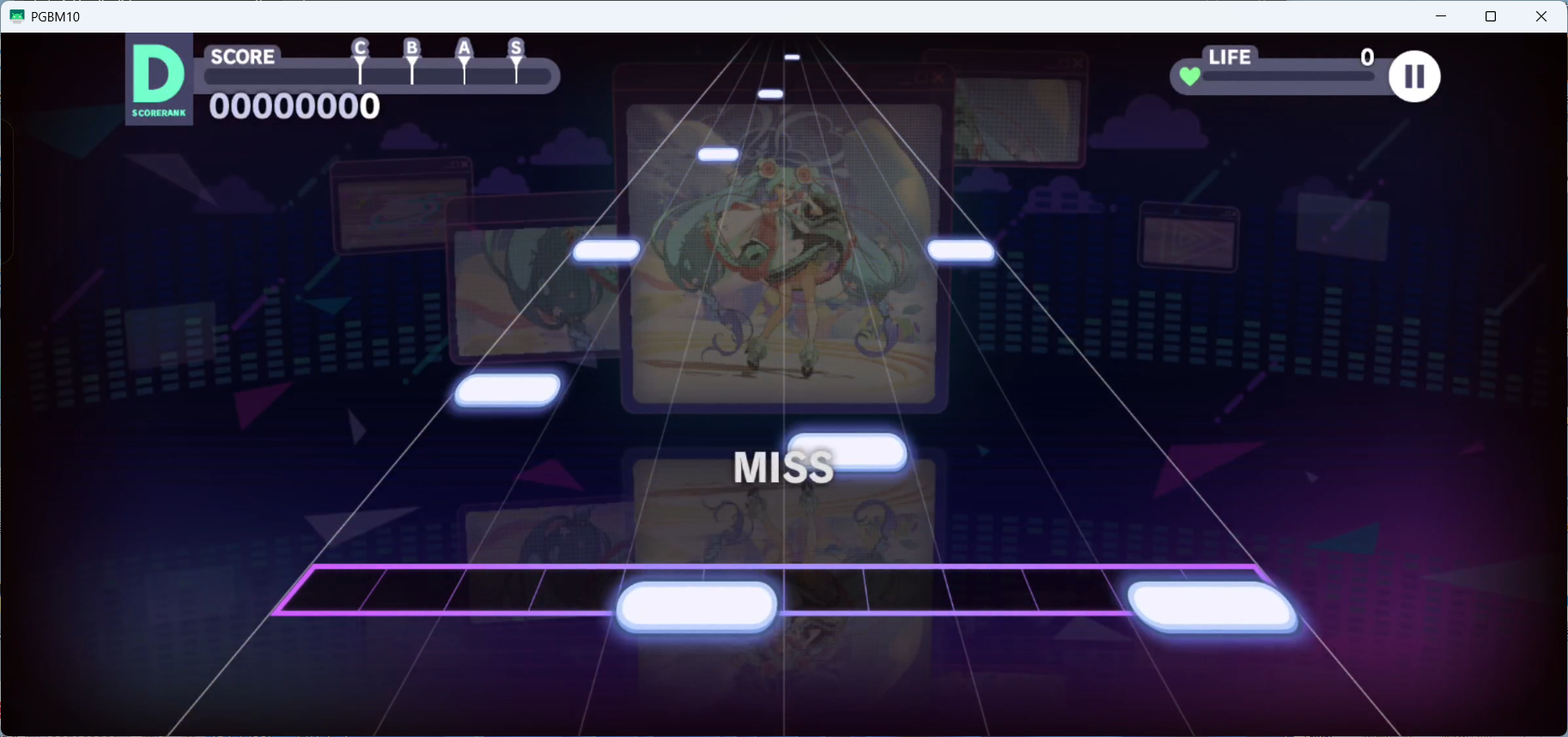tap: (615, 582, 779, 636), (1127, 582, 1298, 633), (787, 432, 908, 471), (454, 371, 560, 410), (573, 238, 640, 262), (928, 239, 994, 261), (698, 148, 738, 162), (757, 89, 784, 99), (784, 54, 800, 60)
